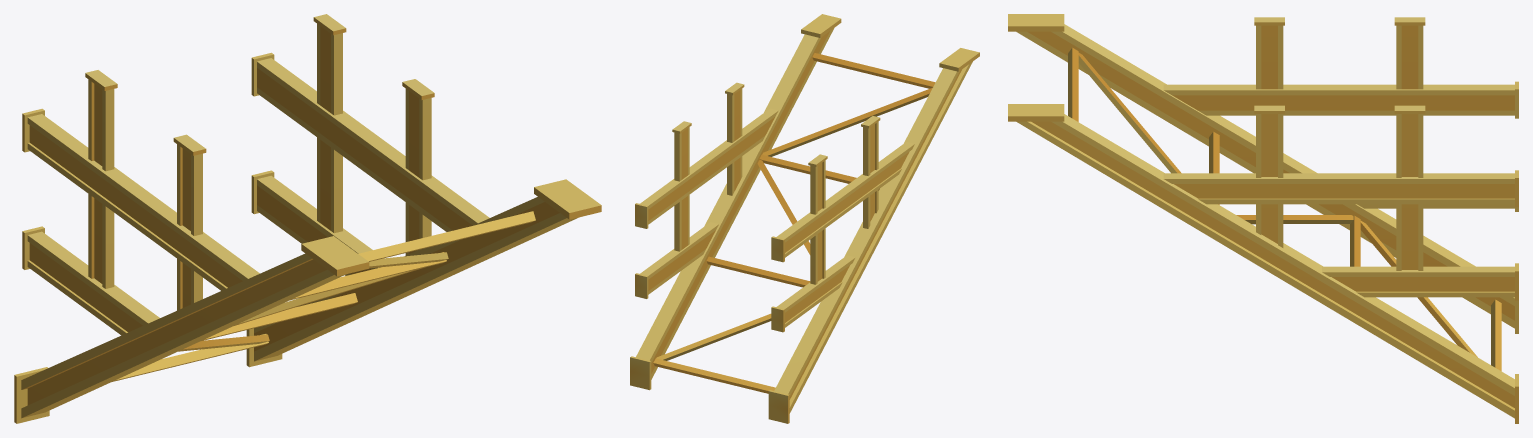
File: squidgame_props_sidetruss.fbx
The picture shows the model from 3 angles, left to right: view 1: azimuth 30°, elevation 25°; view 2: azimuth 150°, elevation 25°; view 3: azimuth 270°, elevation 25°; orthographic projection. The views are drawn at different scales.
Parts seen in each view (by area): view 1: squidgame_props_sidetruss; view 2: squidgame_props_sidetruss; view 3: squidgame_props_sidetruss.
Part boxes in pixels (x1=…): squidgame_props_sidetruss: x1=14, y1=14, x2=601, y2=423; squidgame_props_sidetruss: x1=630, y1=14, x2=979, y2=423; squidgame_props_sidetruss: x1=1008, y1=14, x2=1518, y2=423.
Bounding box in the file's own units: 1.91 × 2.68 × 4.02.
